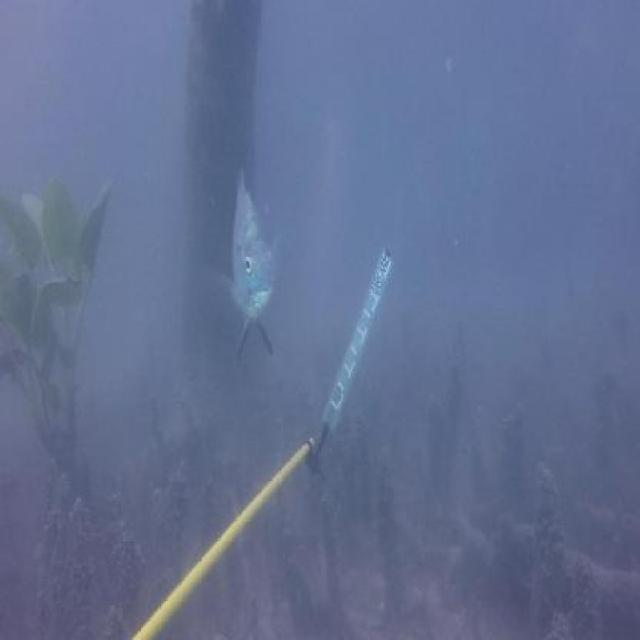acanthopagrus_palmaris: (214, 148, 286, 358)
